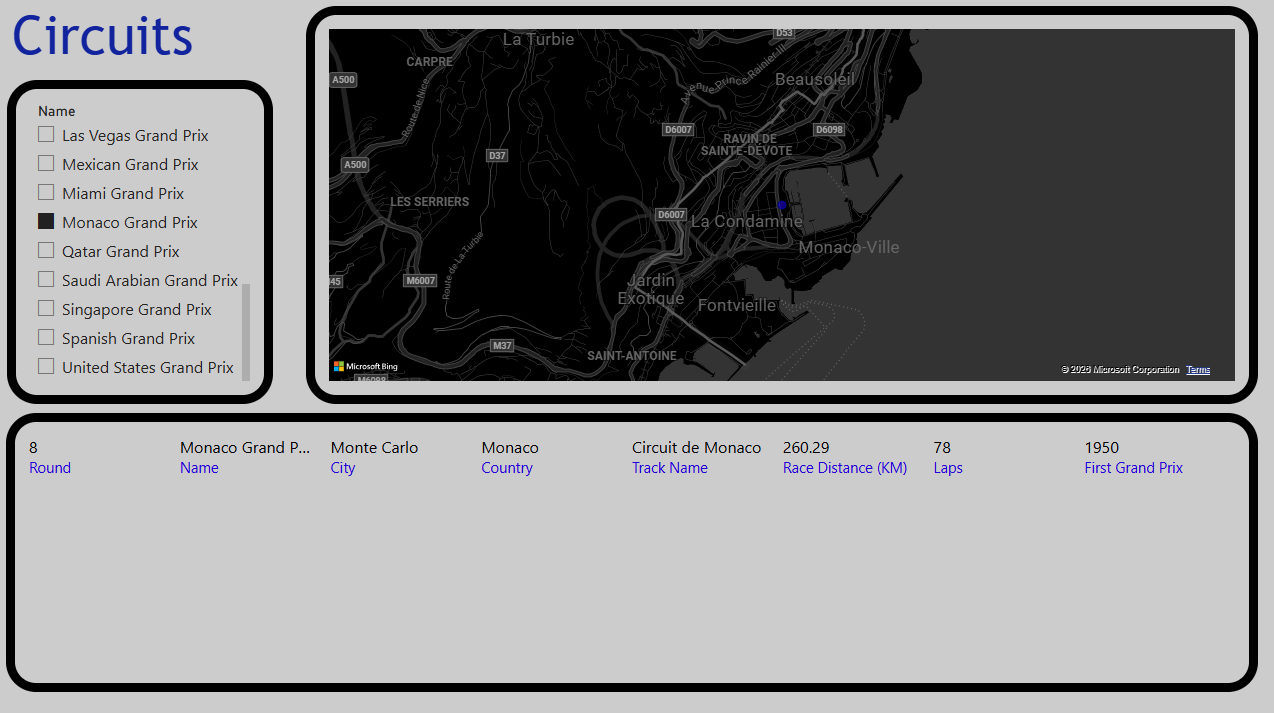

The page's visual inventory and layout, read from the dashboard file:
{"tool":"powerbi","page":{"name":"Circuits","canvas":[1280,720],"ordinal":3},"visuals":[{"type":"textbox","box":[9.8,0,202.4,82.1],"z":0},{"type":"multiRowCard","fields":{"Values":["Tracks_2025.Track ID","Tracks_2025.Name","Tracks_2025.City","Tracks_2025.Country","Tracks_2025.Track Name","Tracks_2025.Race Distance (KM)","Tracks_2025.Laps","Tracks_2025.First Grand Prix"]},"box":[9.5,414,1251.5,279.2],"z":1000},{"type":"map","fields":{"Y":["Tracks_2025.Latitude"],"X":["Tracks_2025.Longitude"]},"box":[308.9,6.5,952.1,398.5],"z":2000},{"type":"slicer","fields":{"Values":["Tracks_2025.Name"]},"box":[9.8,81.1,266.3,323.9],"z":3000}]}

Visuals, with their boxes in screenshot pixels (x1, y1, x2, y2), scaled from the page's 1280x720 canvas onto the 1274x713 screenshot:
textbox: (x1=10, y1=0, x2=211, y2=81)
multiRowCard - Tracks_2025.Track ID x Tracks_2025.Name: (x1=9, y1=410, x2=1255, y2=686)
map - Tracks_2025.Latitude x Tracks_2025.Longitude: (x1=307, y1=6, x2=1255, y2=401)
slicer - Tracks_2025.Name: (x1=10, y1=80, x2=275, y2=401)
